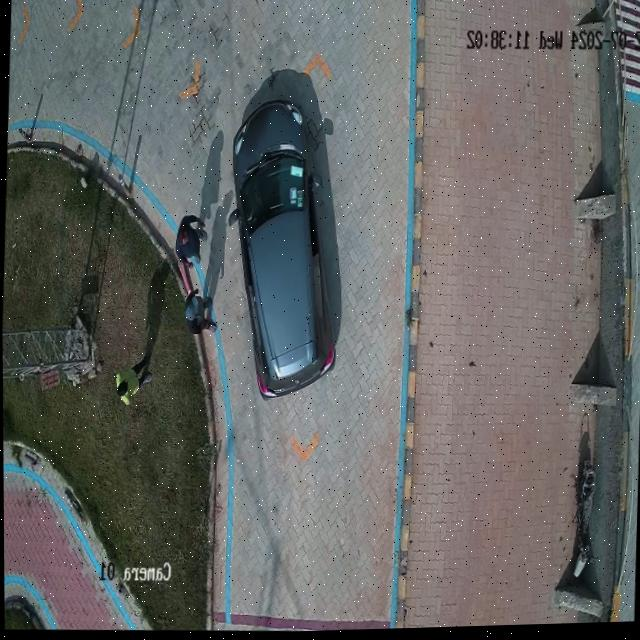car: (228, 101, 334, 399)
